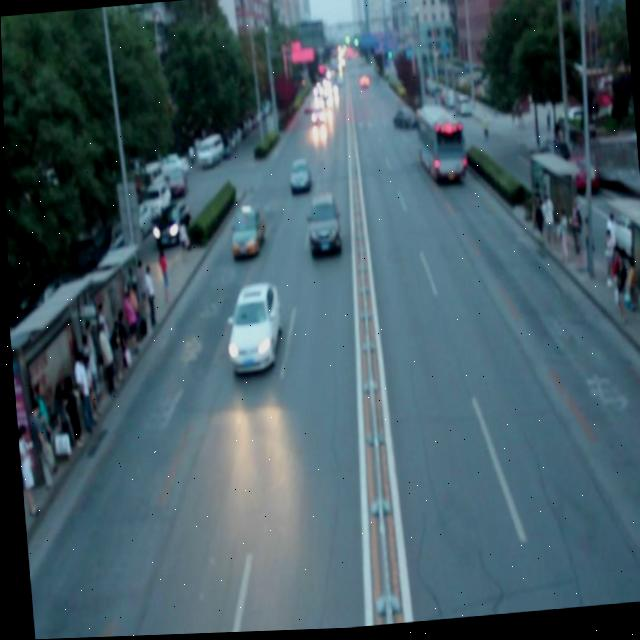car: (221, 283, 279, 373), (227, 202, 264, 260), (305, 197, 339, 257), (286, 159, 310, 192), (391, 102, 416, 131), (309, 107, 326, 130)
van: (415, 108, 465, 180)
